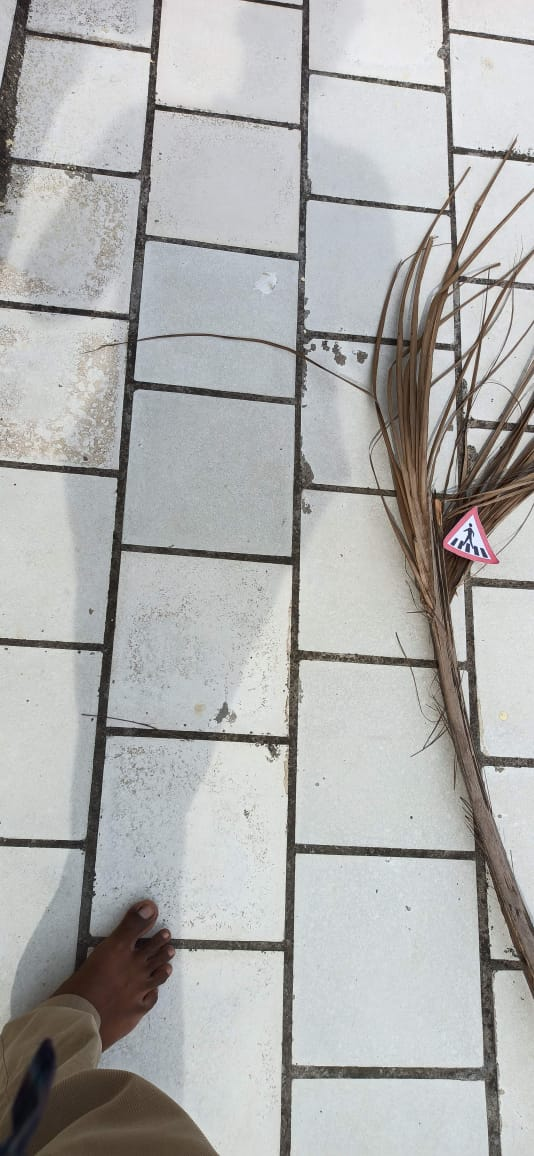PEDESTRIAN CROSSING: (444, 500, 505, 567)
